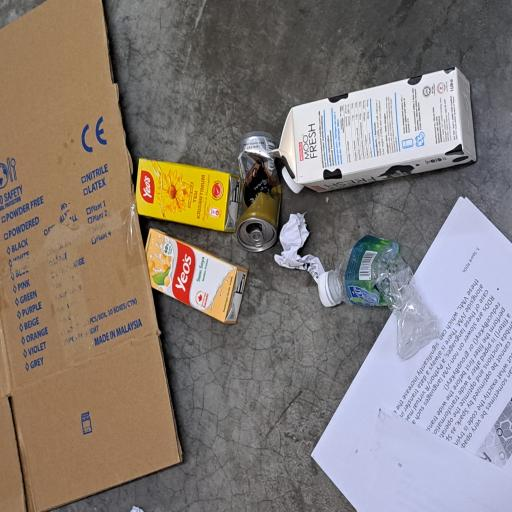can: (194, 314, 287, 376)
cardboard: (0, 0, 384, 249)
drink carton: (240, 357, 333, 512), (141, 191, 213, 331), (210, 180, 265, 324)
paper: (0, 415, 238, 512), (173, 364, 226, 435)
plastic bottle: (113, 437, 209, 512)
plastic bottle cap: (154, 424, 182, 450), (238, 375, 260, 406)
pop tab: (197, 334, 211, 352)
